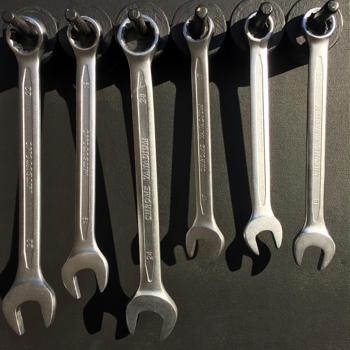bottom: (1, 275, 61, 337), (123, 287, 179, 343), (58, 246, 112, 300), (290, 224, 337, 273), (182, 221, 226, 266), (241, 213, 283, 255)
top: (4, 13, 51, 62), (115, 12, 161, 59), (63, 14, 107, 57), (300, 2, 339, 43), (179, 10, 218, 50), (241, 8, 276, 47)
